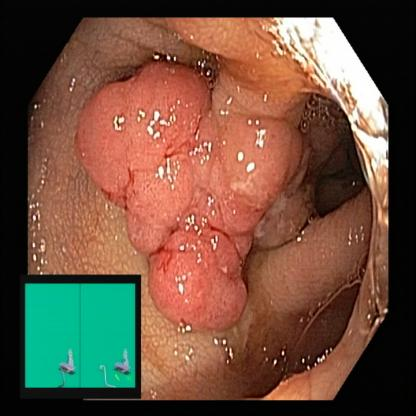Labels: (22, 274, 143, 399)
Polyps: (85, 86, 334, 273), (152, 211, 252, 328)
